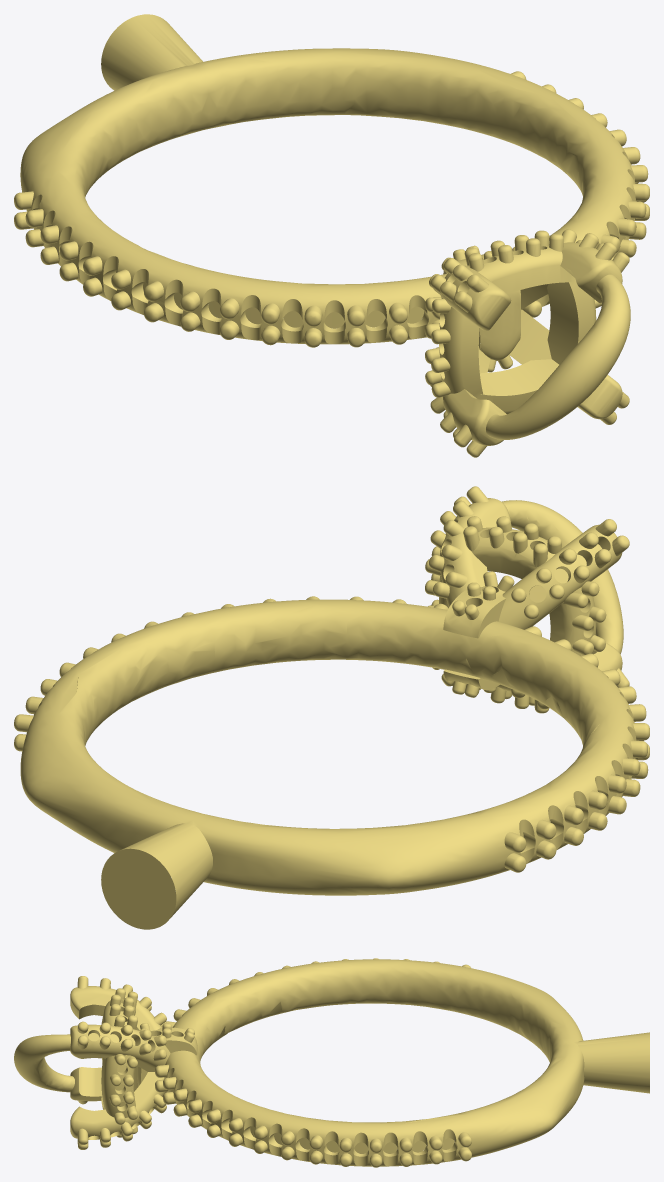
The picture shows the model from 3 angles, top to bottom: view 1: azimuth 30°, elevation 25°; view 2: azimuth 150°, elevation 25°; view 3: azimuth 270°, elevation 25°; orthographic projection. The views are drawn at different scales.
Visible parts, largest first — view 1: Renderer Node; view 2: Renderer Node; view 3: Renderer Node.
Boxes of the visible parts, x1,y1,x2,y2 form: Renderer Node: (14,14,649,457); Renderer Node: (14,486,649,929); Renderer Node: (14,958,649,1167).
Bounding box in the file's own units: 22.31 × 7.13 × 32.15.
